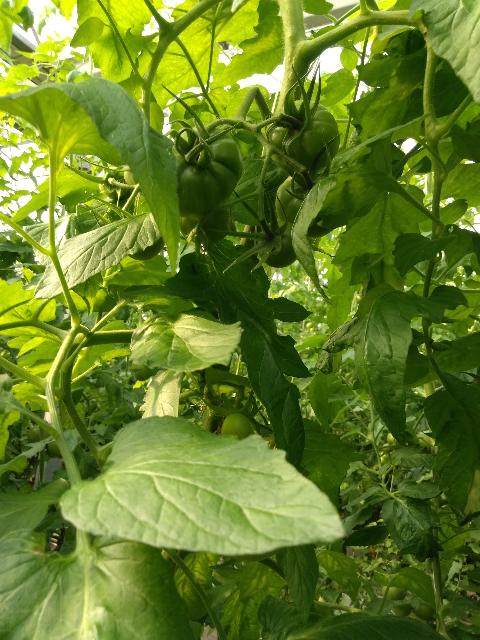b_green: (169, 124, 243, 218), (266, 100, 340, 172), (275, 170, 341, 238), (180, 195, 236, 245), (258, 219, 303, 268), (221, 413, 250, 440)
